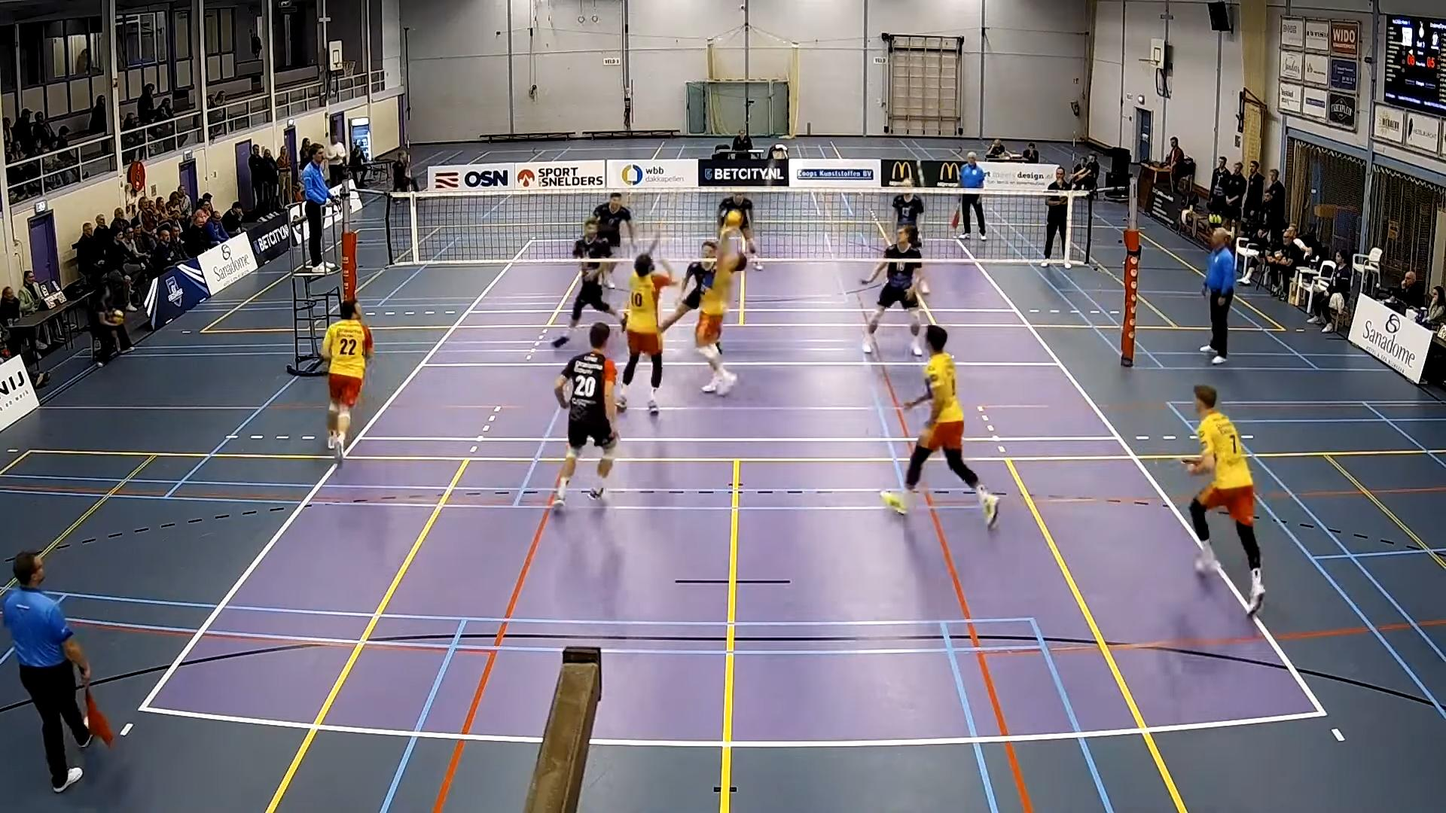Player: (882, 325, 998, 528), (1183, 385, 1264, 615), (554, 322, 618, 506), (616, 237, 673, 413), (320, 300, 373, 461), (551, 218, 617, 347), (863, 227, 923, 355), (660, 239, 717, 331), (717, 191, 761, 269), (592, 192, 635, 248), (892, 178, 924, 234)
Set: (696, 223, 768, 401)
ball: (723, 209, 742, 222)
